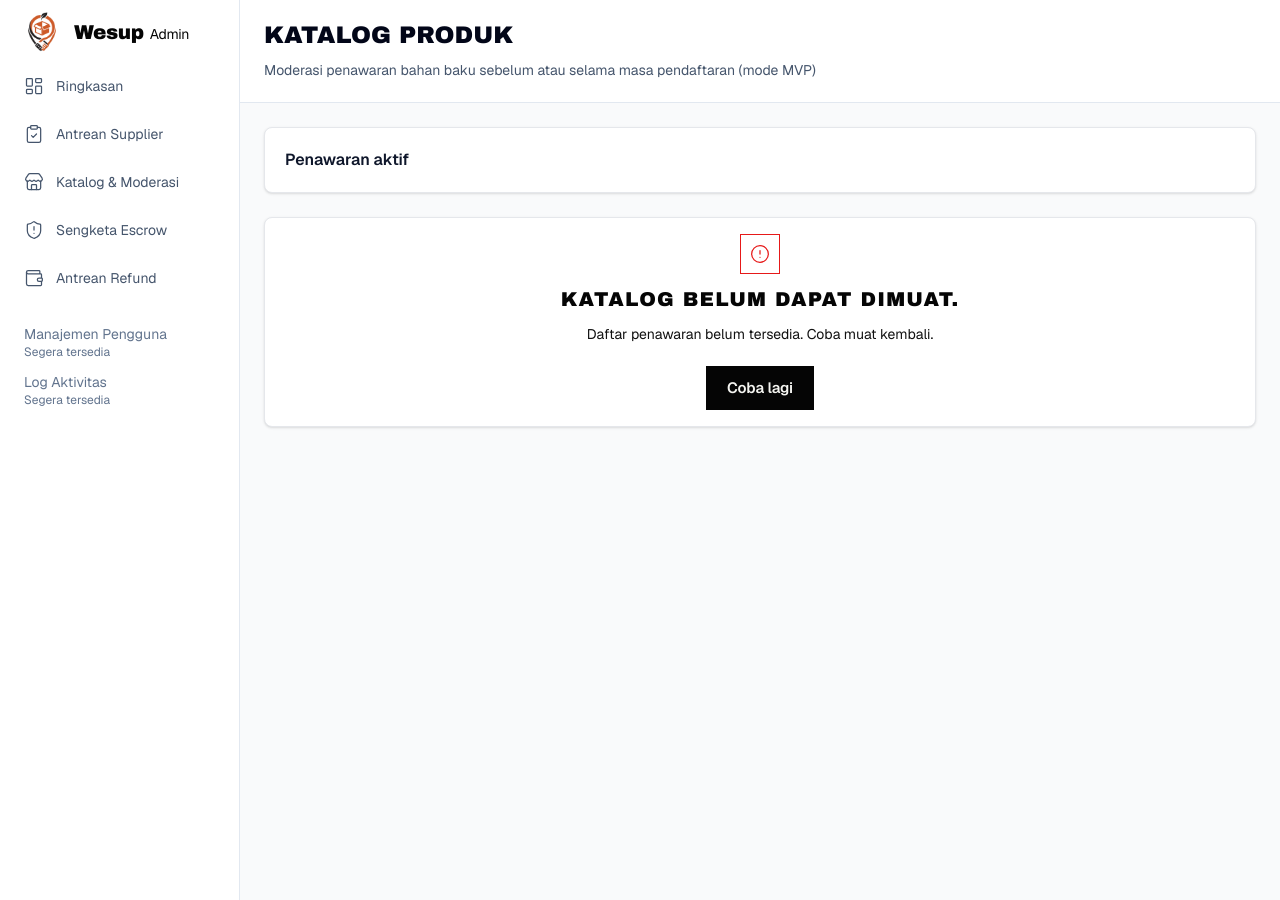
feedback recovery › retries a failed catalog rather than showing an empty result
The width and height of the screenshot is (1280, 900).
Expected: the message is shown, [561,234,959,410]
Expected: the text "Belum ada katalog produk yang terdaftar." is not shown
Click the button "Coba lagi": (760, 388) [706,366,814,410]
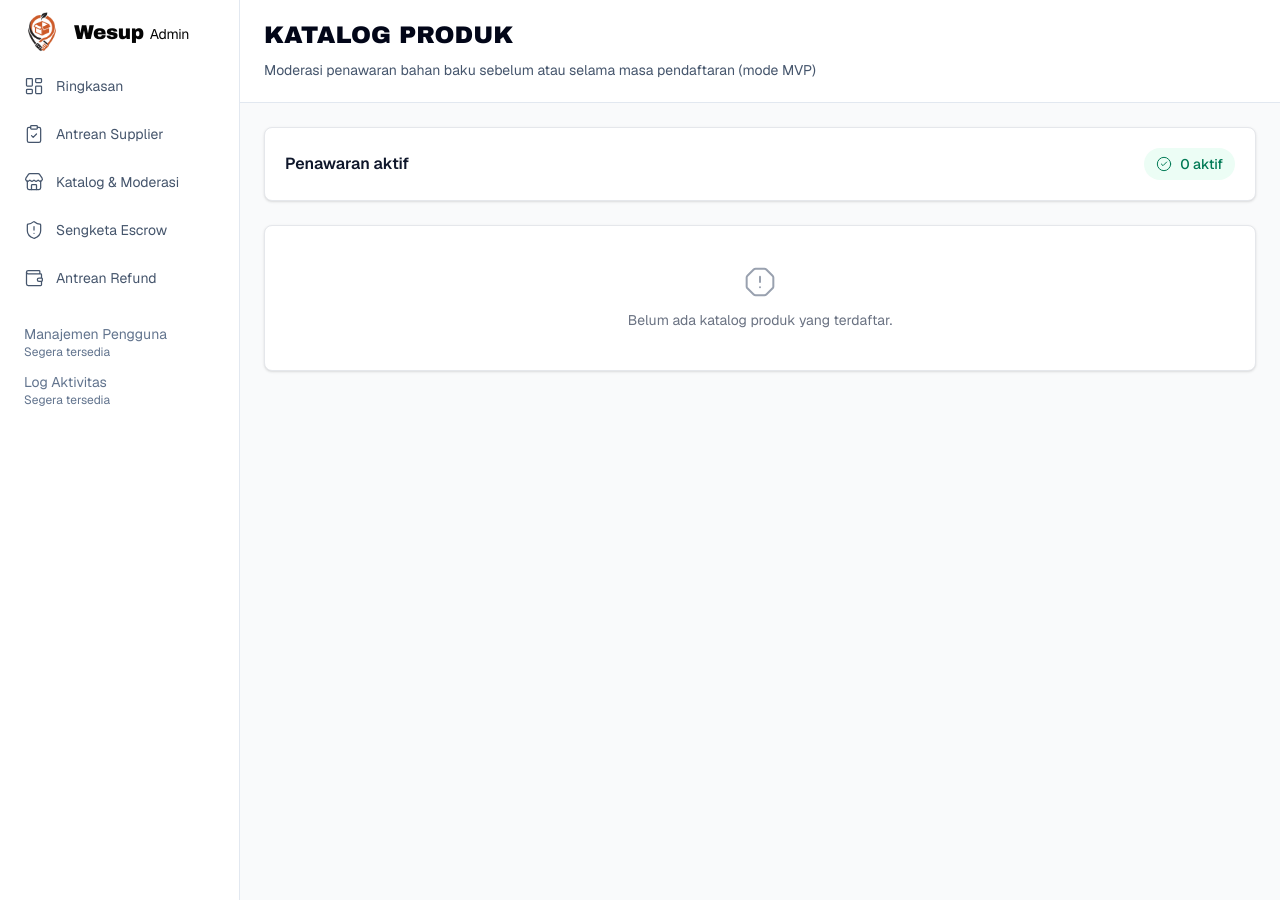
Now the text "Belum ada katalog produk yang terdaftar." is shown, box [628,311,892,329]
